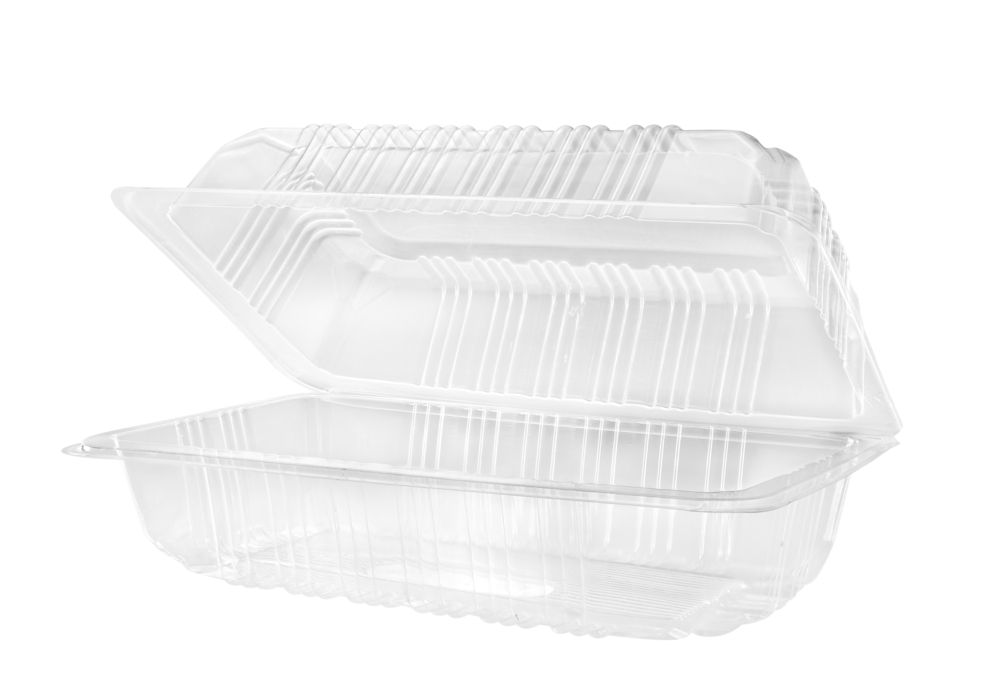PlasticBox: (52, 118, 908, 645)
